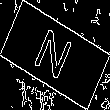N_SW: (31, 24, 79, 86)
